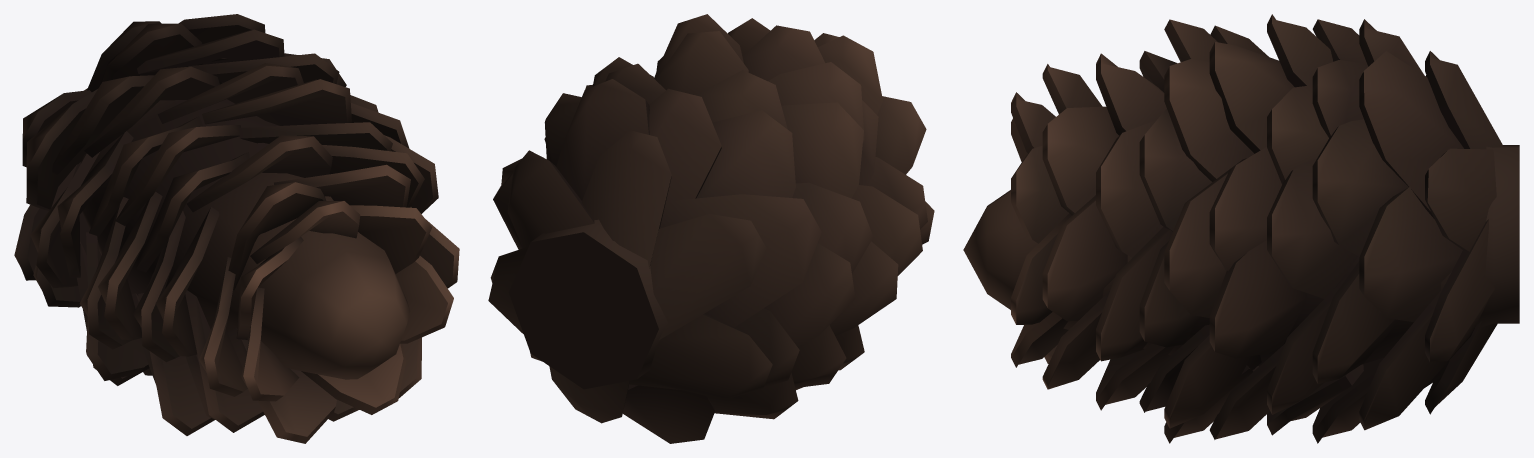
File: trees-seeds-nuts-pine-cone_v1.fbx
3 renders of one model, left to right at view 1: azimuth 30°, elevation 25°; view 2: azimuth 150°, elevation 25°; view 3: azimuth 270°, elevation 25°, orthographic. The views are drawn at different scales.
Parts seen in each view (by area): view 1: Pine Cone; view 2: Pine Cone; view 3: Pine Cone.
Part boxes in pixels (x1,y1,x2,y2): Pine Cone: [14, 14, 459, 443]; Pine Cone: [488, 14, 934, 443]; Pine Cone: [963, 14, 1519, 443].
Size of the model in its own units: 0.0618 by 0.0617 by 0.08.
